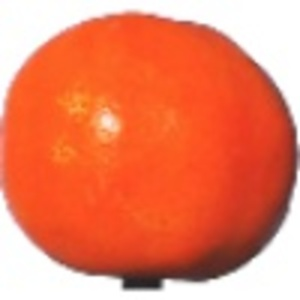tangerina: (2, 8, 300, 288)
